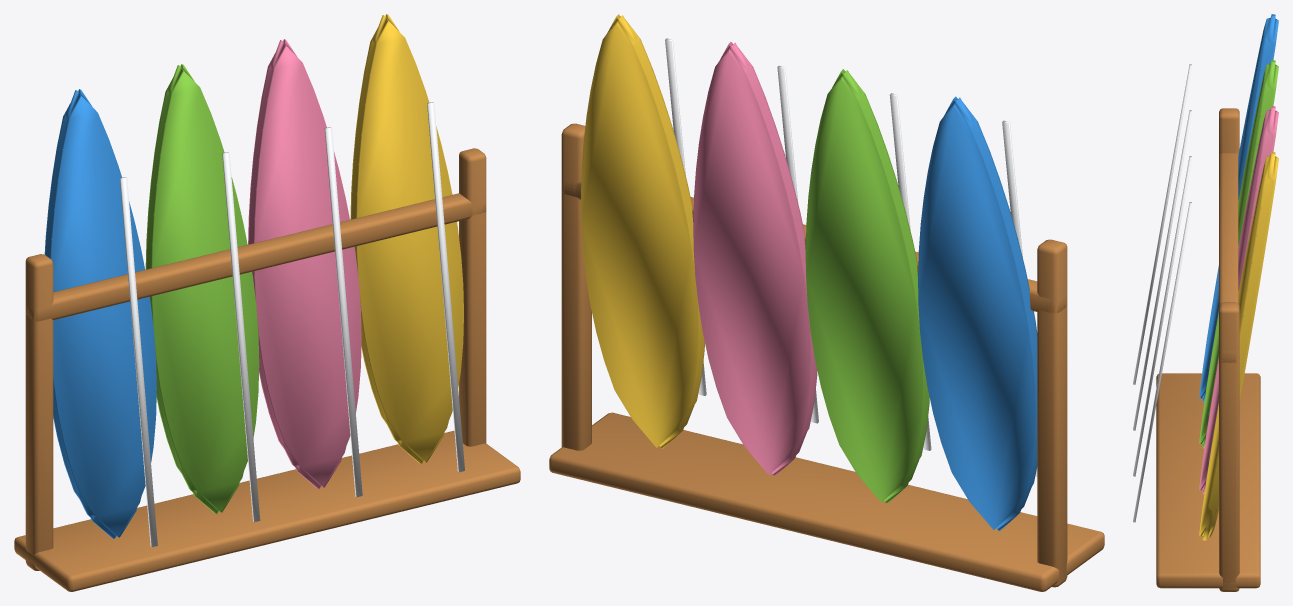
File: surf_rack.glb
The picture shows the model from 3 angles, left to right: view 1: azimuth 30°, elevation 25°; view 2: azimuth 150°, elevation 25°; view 3: azimuth 270°, elevation 25°; orthographic projection. The views are drawn at different scales.
Parts seen in each view (by area): view 1: surf_rack; view 2: surf_rack; view 3: surf_rack.
Part boxes in pixels (x1,y1,x2,y2): surf_rack: (14,14,520,591); surf_rack: (549,14,1104,591); surf_rack: (1133,14,1278,591).
Bounding box in the file's own units: 2.3 × 2.16 × 0.6989.
